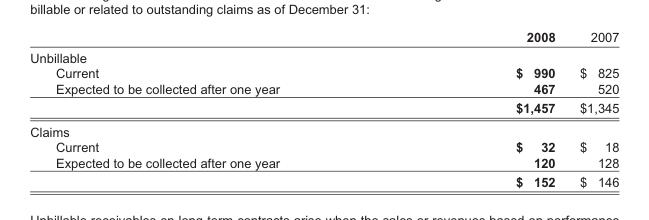table: (29, 29, 618, 188)
table column: (29, 29, 397, 188), (397, 29, 566, 188), (566, 29, 618, 188)
table column header: (29, 29, 618, 47)
table projected row header: (29, 119, 618, 138), (29, 47, 618, 65)
table row: (29, 97, 618, 119), (29, 119, 618, 138), (29, 29, 618, 47), (29, 47, 618, 65), (29, 80, 618, 97), (29, 154, 618, 171), (29, 171, 618, 188), (29, 138, 618, 154), (29, 65, 618, 80)
